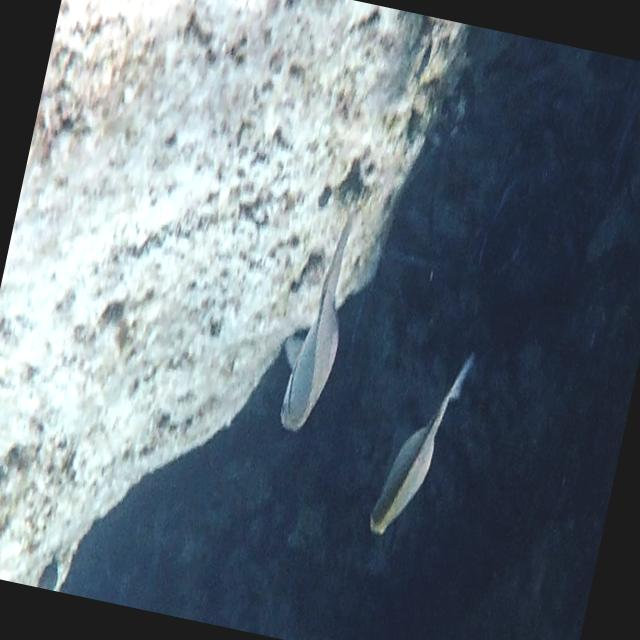Sokar Baligi: (350, 322, 496, 582), (262, 160, 391, 452)
